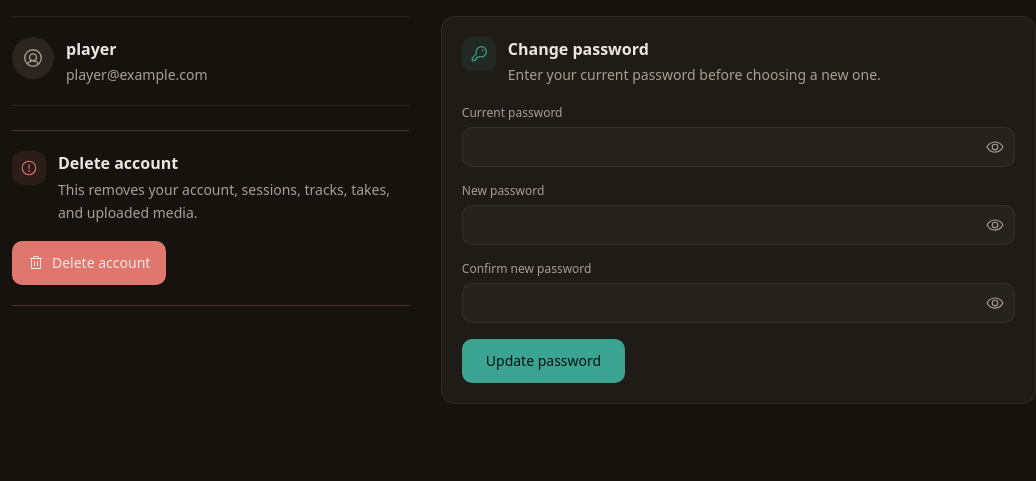
Test: AccountSettingsPanel › shows backend errors
In the password field labelled "Current password": (738, 147) [462,127,1015,167], type "old-password-123"
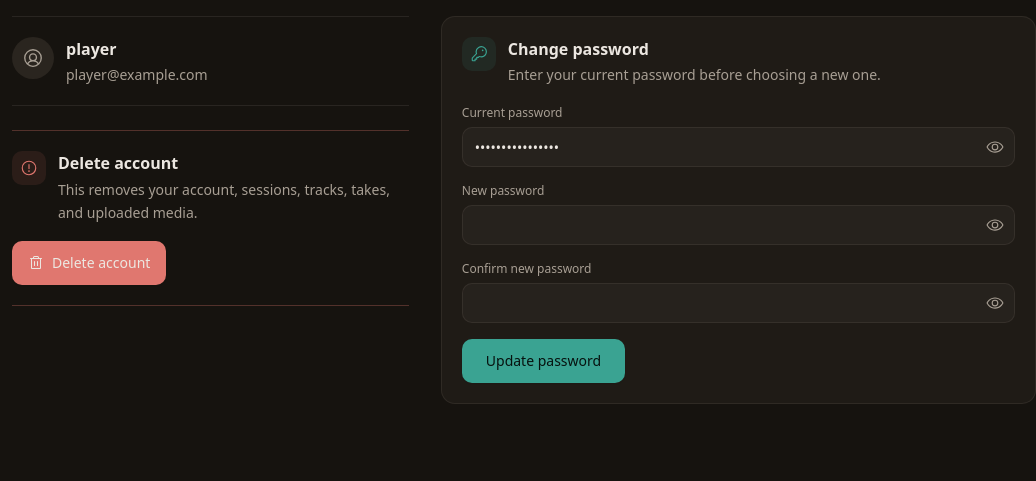
In the password field labelled "New password": (738, 225) [462,205,1015,245], type "new-password-123"
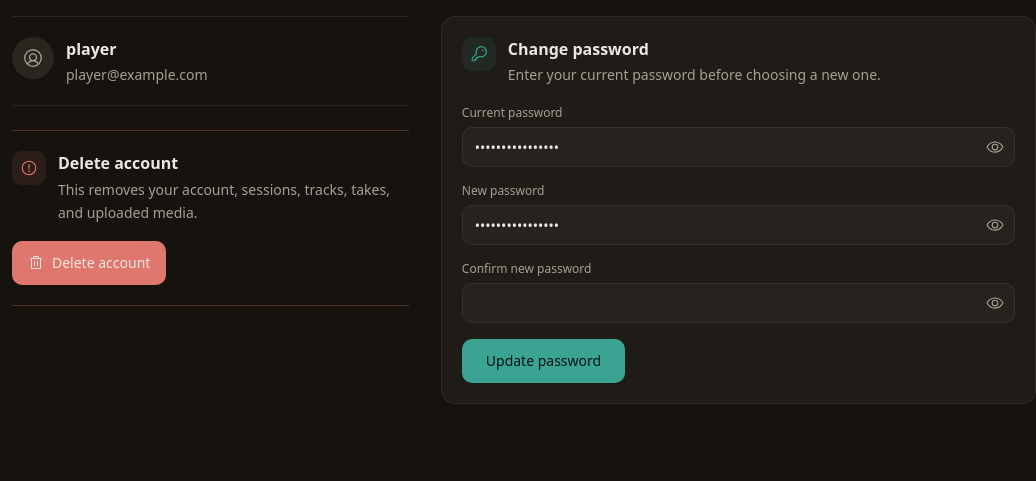
In the password field labelled "Confirm new password": (738, 303) [462,283,1015,323], type "new-password-123"
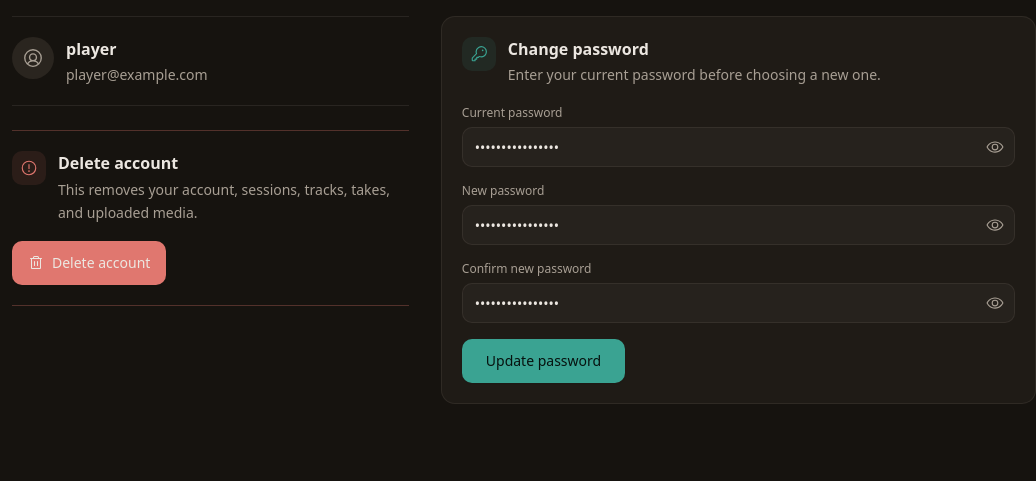
Click the button "Update password": (544, 361) [462,339,625,383]
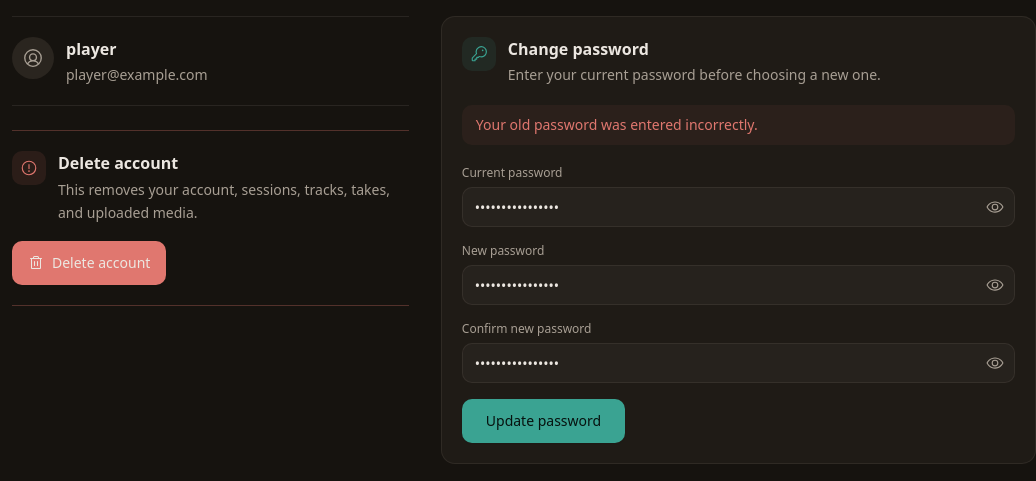
Now the text "Your old password was entered incorrectly." is shown, box [462,105,1015,145]
